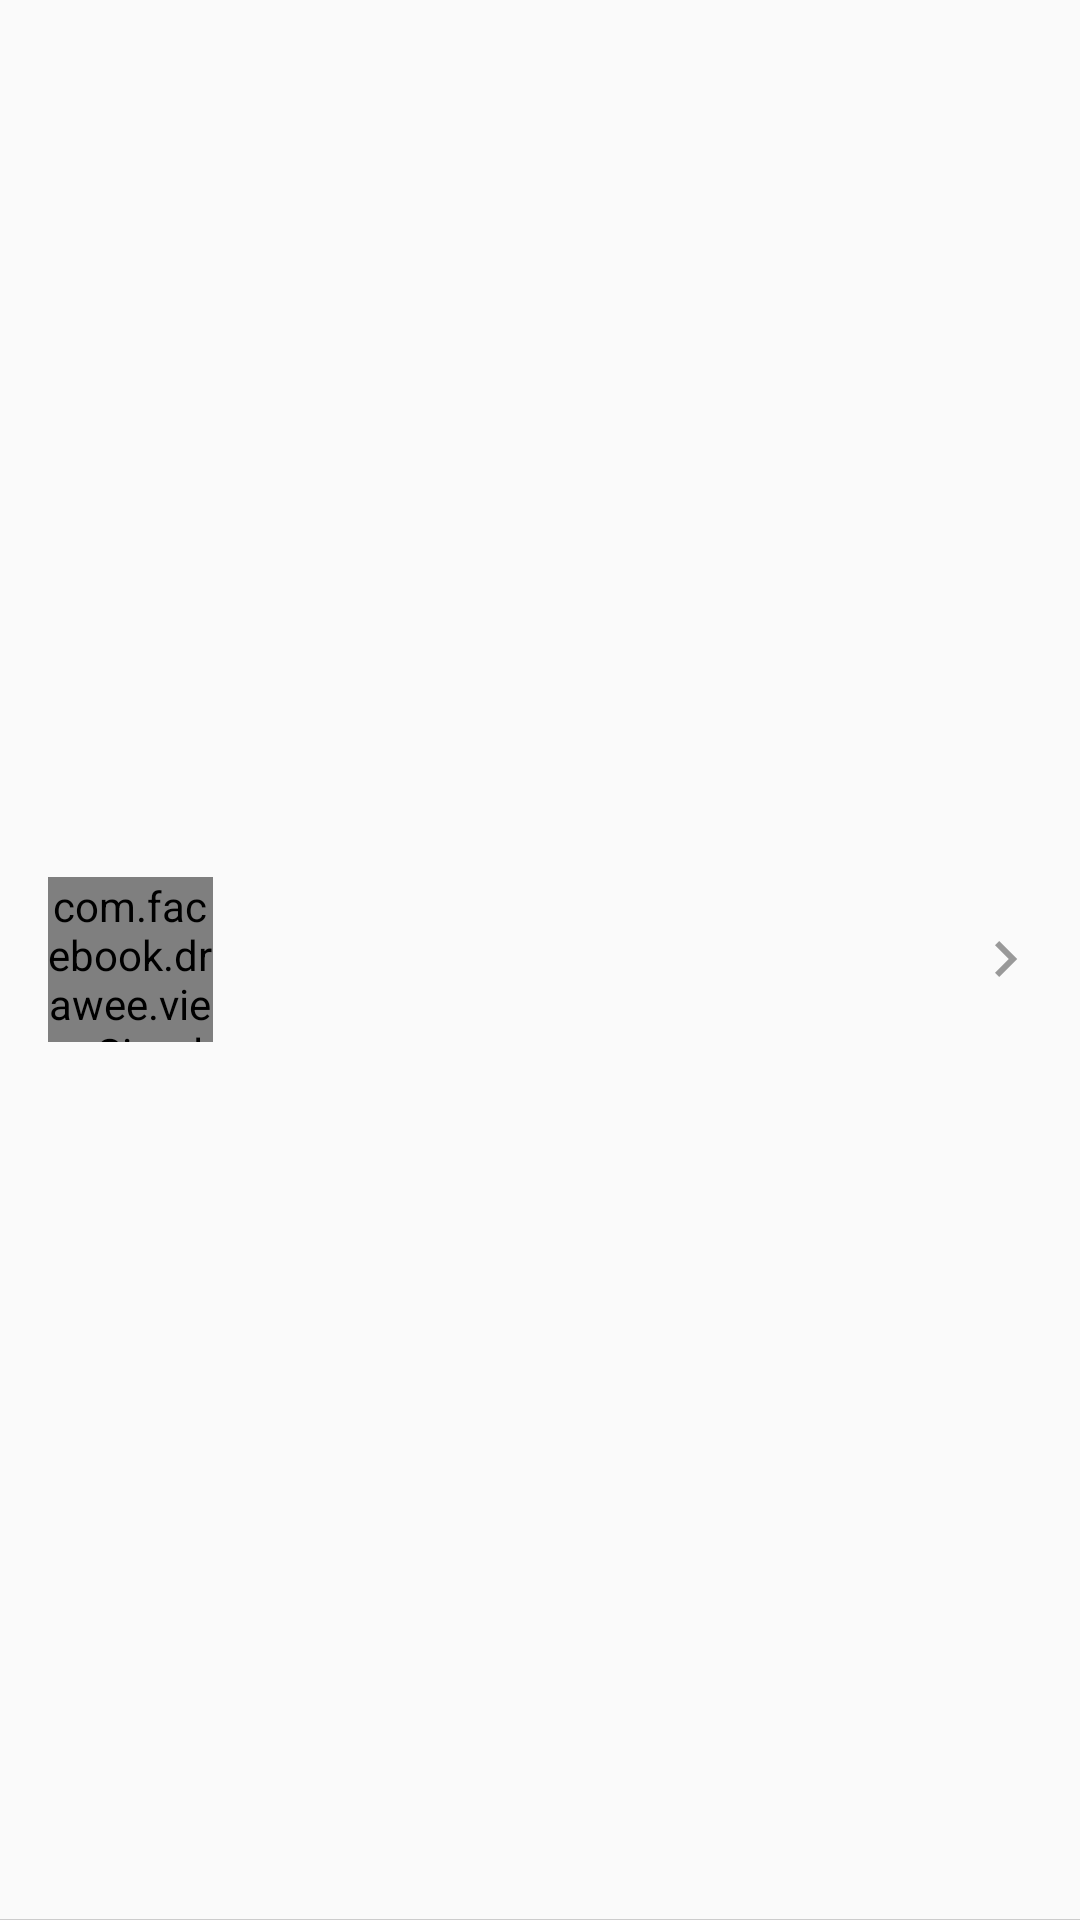

Locate icon controls on the screen. Image size 1080×1920, boxes as (x1, y1, x2, y2).
keyboard arrow right: (995, 941, 1017, 977)
